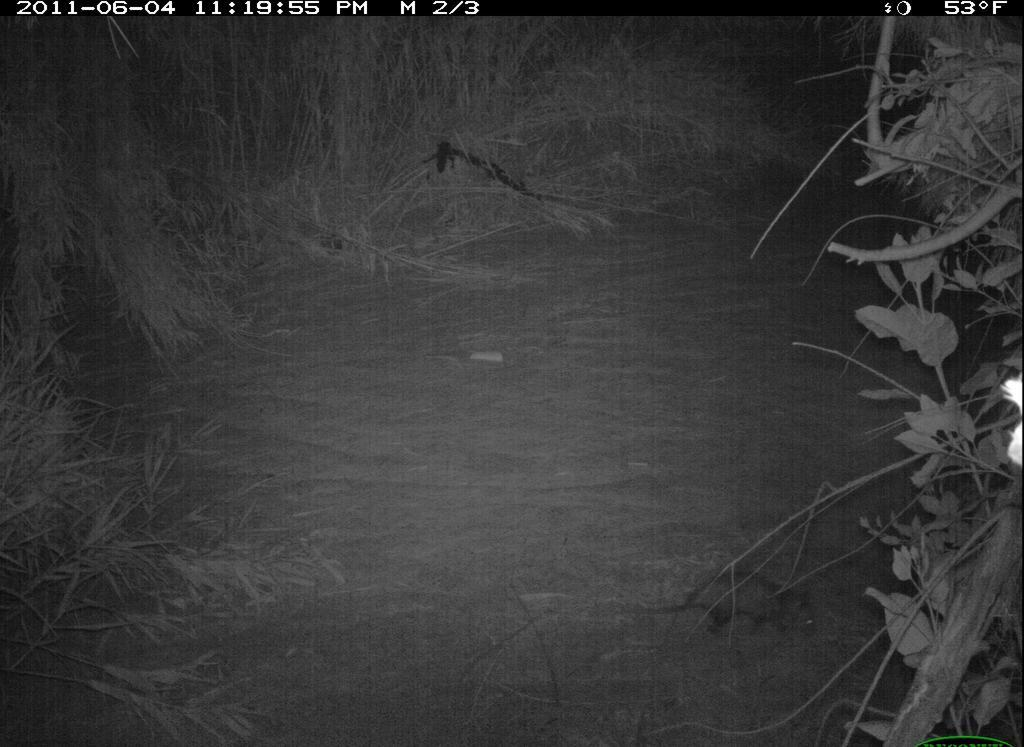opossum: (624, 562, 849, 667)
